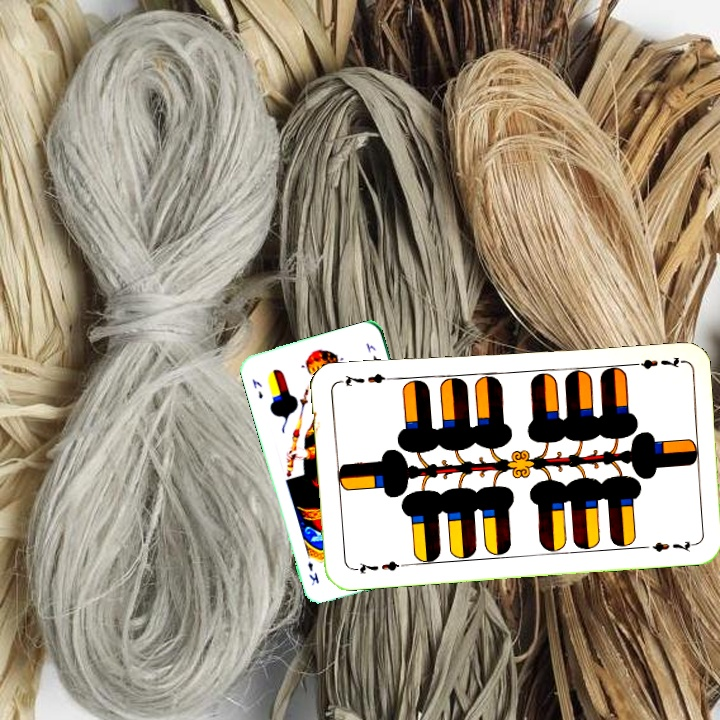E7: (349, 557, 408, 577), (624, 353, 684, 372)
EK: (248, 374, 266, 401)
